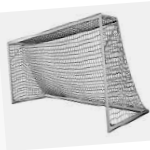goals: (4, 12, 150, 135)
